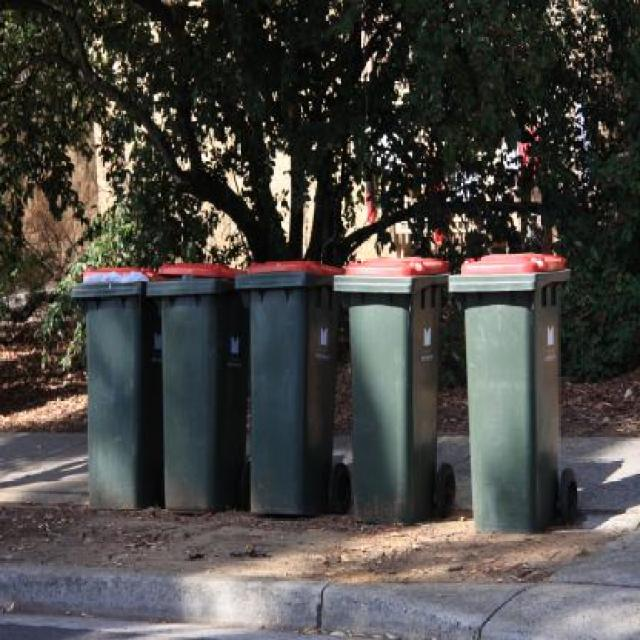garbage container: (446, 248, 588, 544), (330, 233, 458, 545), (234, 248, 354, 532), (147, 249, 248, 522), (66, 256, 160, 518)
